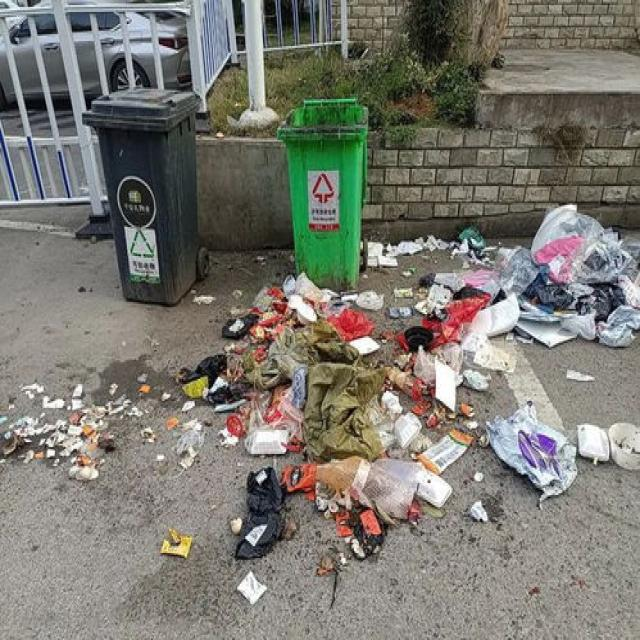garbage: (0, 203, 639, 604)
garbage_bin: (80, 85, 202, 304), (274, 97, 367, 290)
